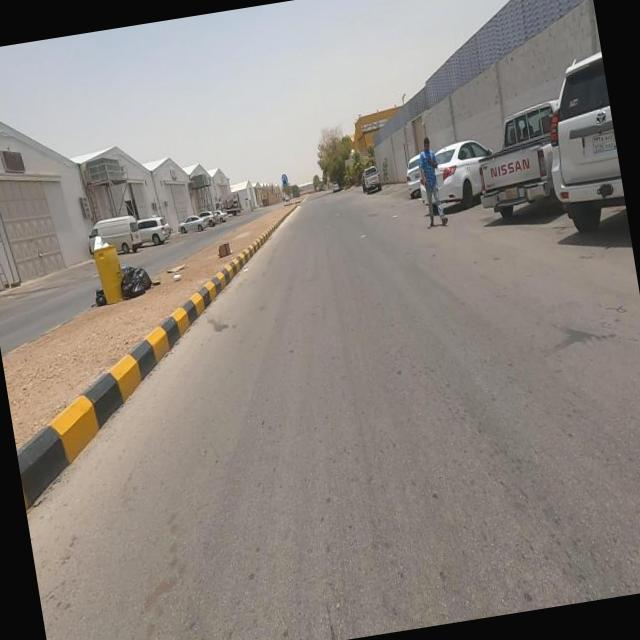debris: (82, 218, 184, 322), (142, 235, 212, 316), (189, 213, 263, 284), (76, 248, 124, 336), (77, 215, 120, 266)
